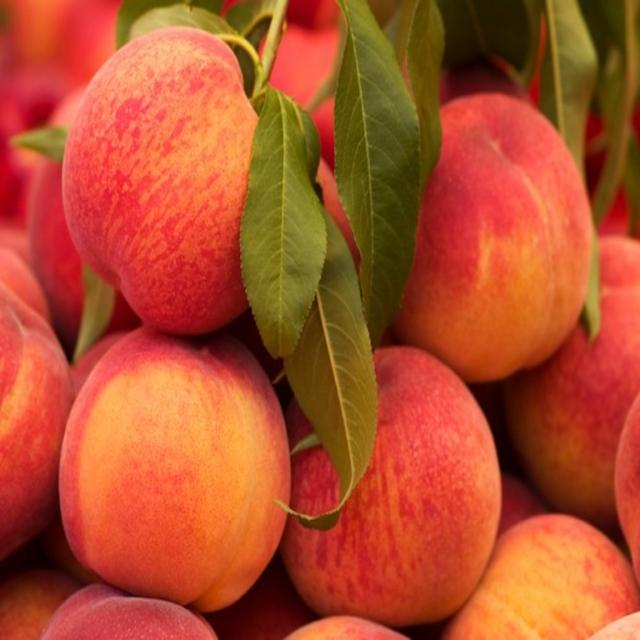Peach: (0, 0, 639, 639), (58, 327, 286, 612)
